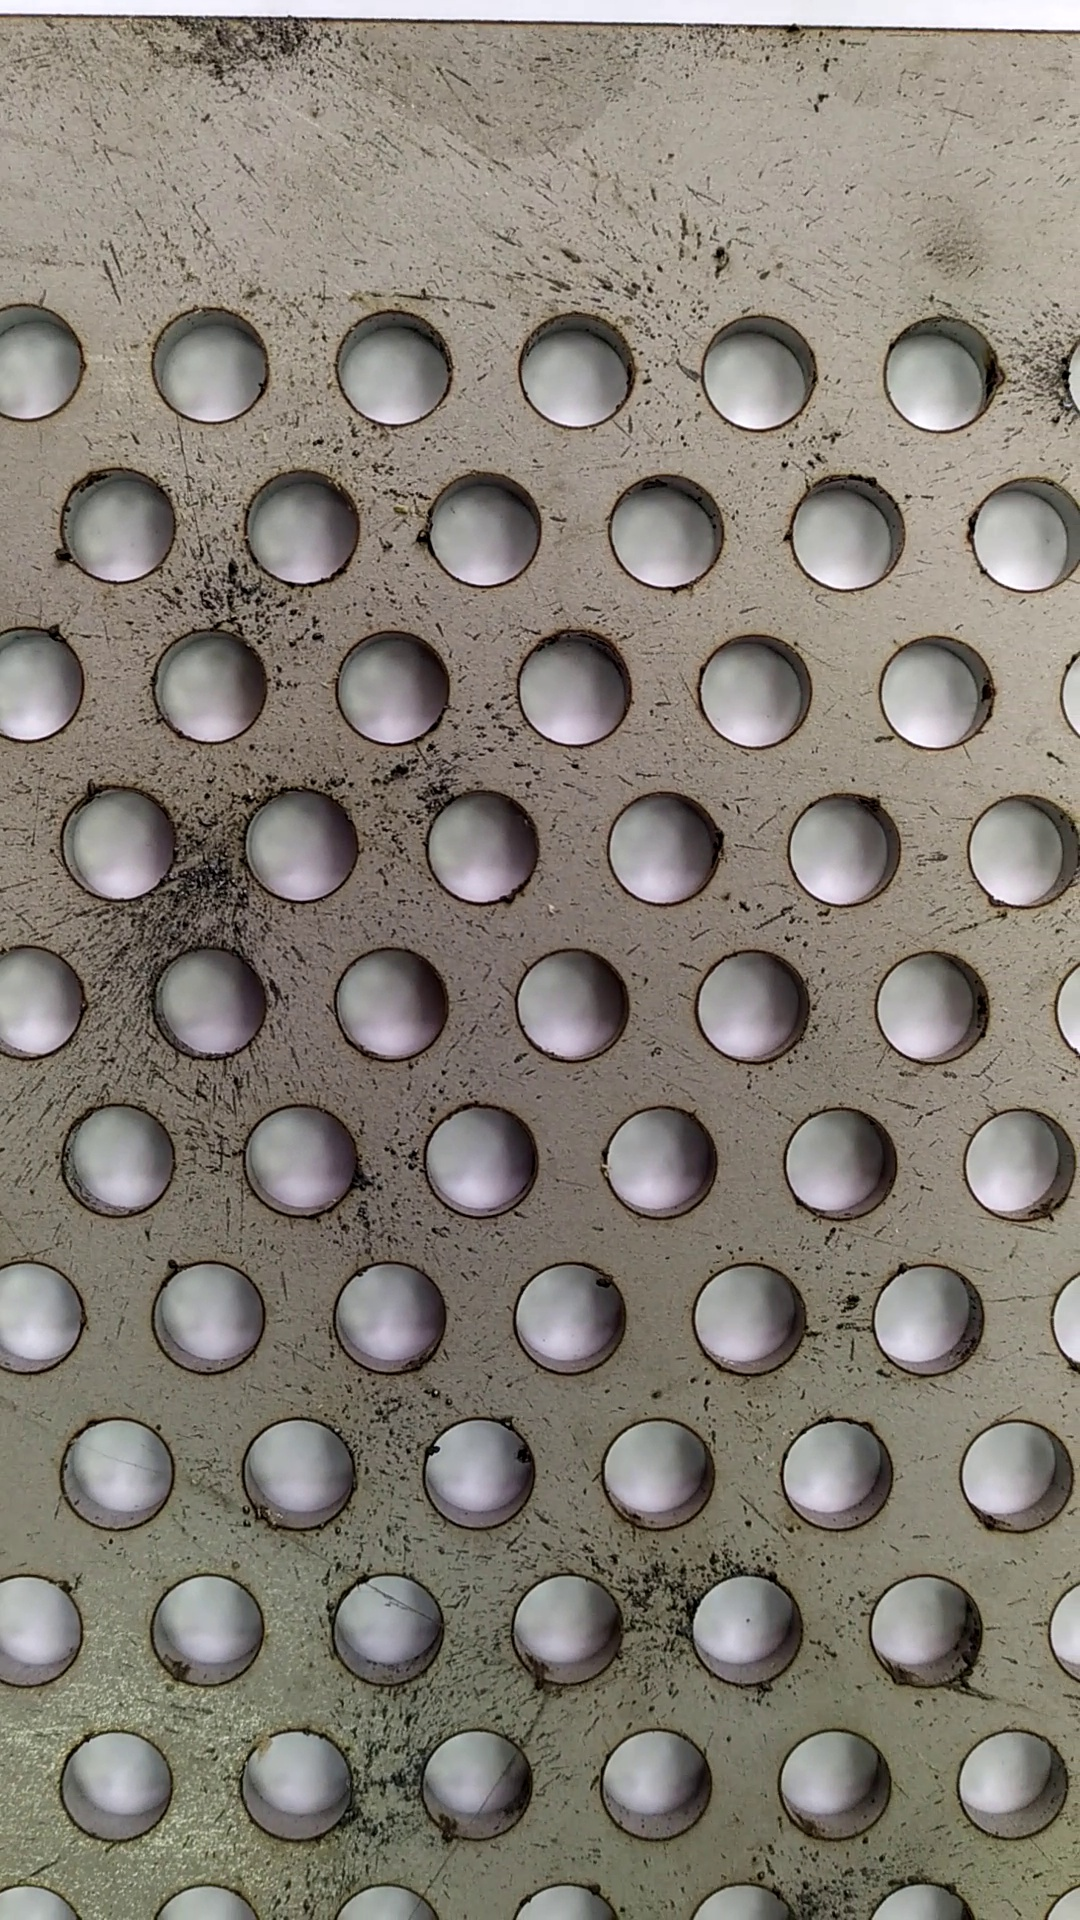Hole: (679, 936, 822, 1081), (127, 1251, 280, 1385), (592, 783, 738, 915), (232, 462, 369, 601), (322, 1244, 455, 1387), (589, 1095, 736, 1224), (326, 299, 463, 436), (673, 1568, 814, 1701), (694, 303, 828, 442), (857, 1564, 1000, 1693), (136, 297, 277, 426), (767, 1722, 909, 1851), (508, 305, 645, 436), (600, 465, 735, 599), (591, 1408, 727, 1540), (866, 624, 1004, 754), (410, 1095, 541, 1232), (314, 1564, 451, 1693), (232, 781, 375, 905), (233, 1407, 365, 1540), (500, 1564, 634, 1695), (49, 462, 185, 591), (404, 1720, 541, 1847), (861, 1255, 992, 1389), (945, 1717, 1075, 1851), (47, 777, 183, 905), (876, 307, 1002, 444), (47, 1095, 187, 1218), (680, 1251, 810, 1385), (142, 620, 277, 748), (589, 1717, 717, 1851), (959, 781, 1080, 922), (53, 1407, 185, 1536), (508, 624, 641, 752), (136, 1564, 272, 1689), (138, 938, 276, 1062), (508, 1251, 632, 1389), (687, 626, 818, 756), (773, 1414, 902, 1544), (49, 1722, 187, 1844), (949, 1411, 1079, 1540), (232, 1724, 367, 1847), (232, 1098, 369, 1220), (419, 462, 549, 589), (781, 787, 910, 915), (330, 938, 459, 1065), (777, 1098, 905, 1228), (415, 1408, 543, 1536), (418, 779, 545, 909), (957, 1097, 1080, 1230), (785, 465, 906, 597), (873, 940, 994, 1069), (504, 942, 636, 1060), (328, 628, 455, 748), (965, 468, 1080, 597)
